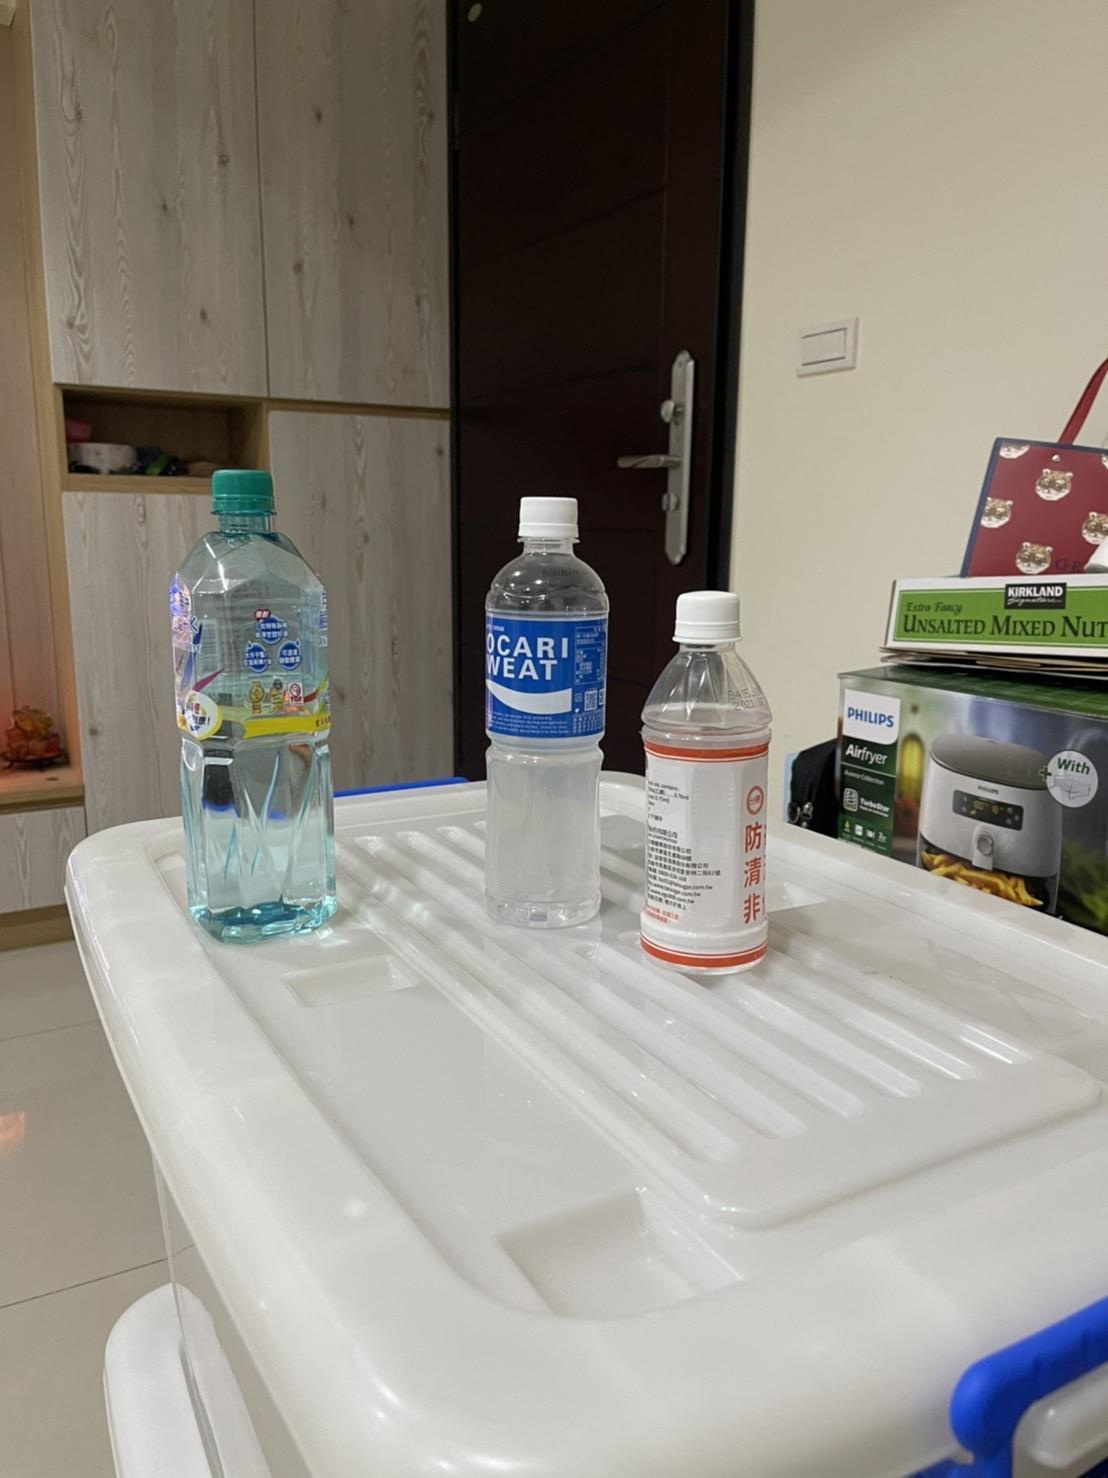bottle: (159, 448, 347, 962), (467, 488, 619, 943), (630, 580, 787, 983)
